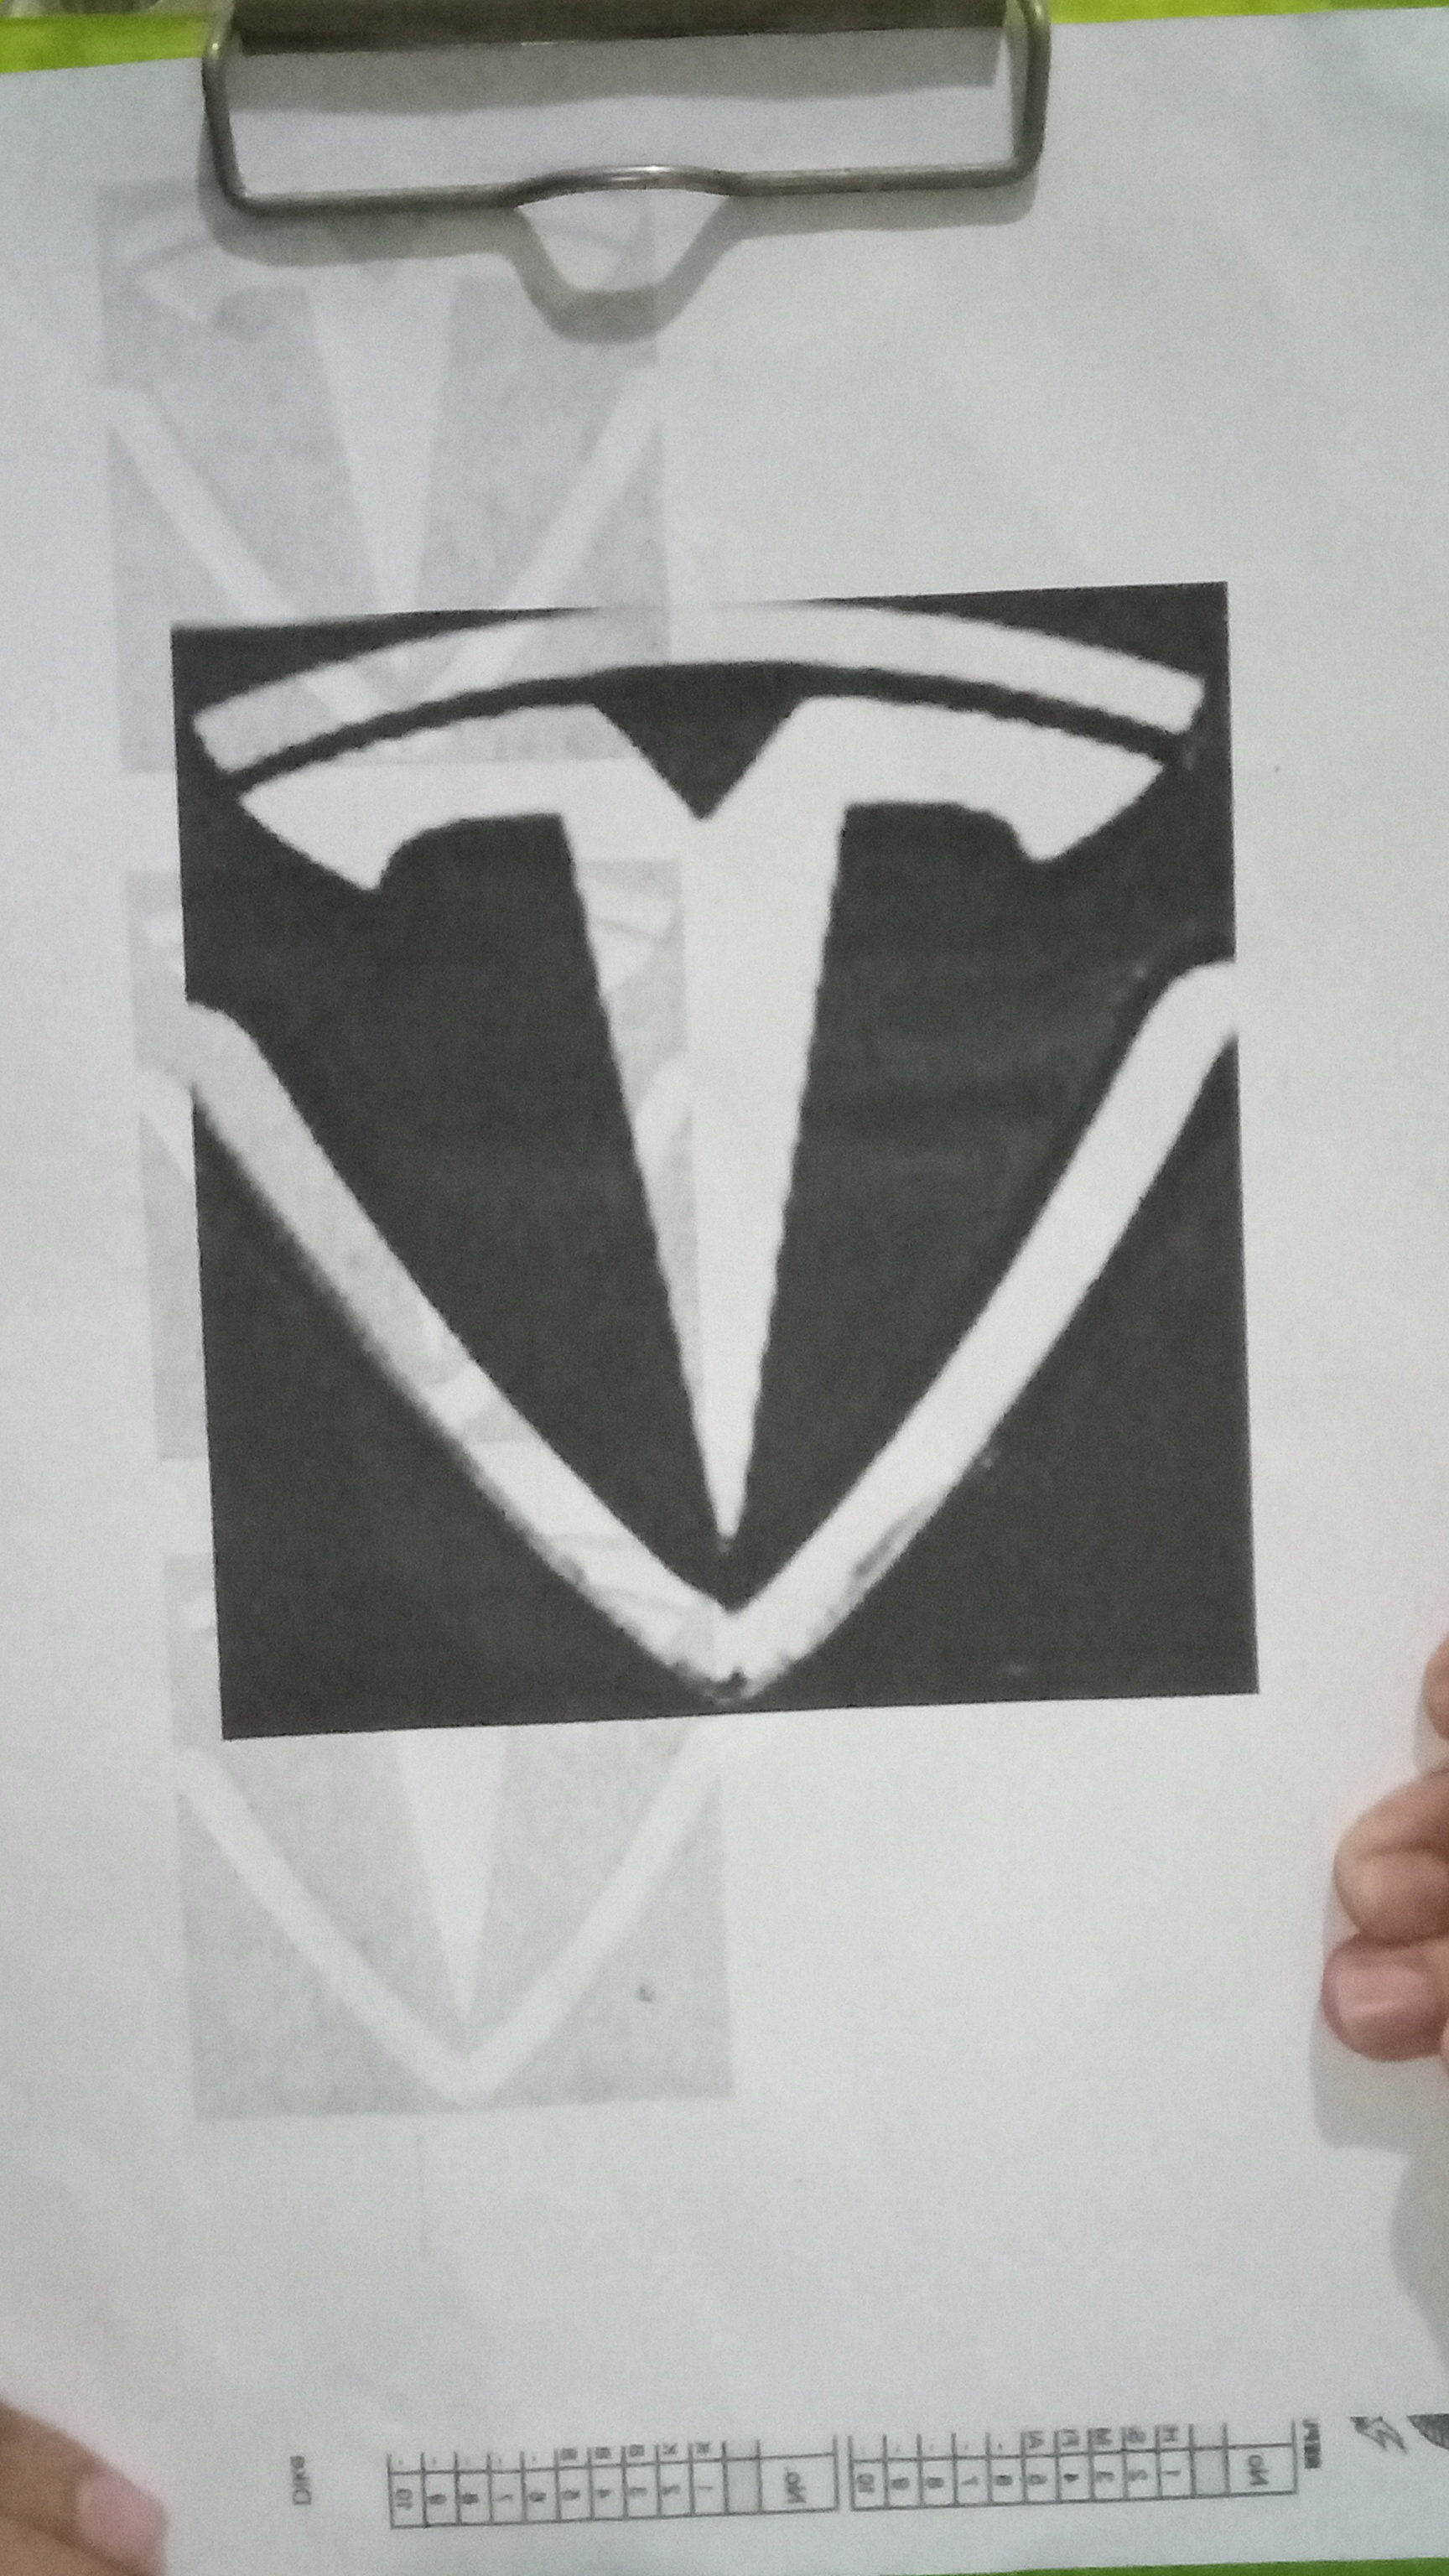Tesla: (149, 594, 1254, 1711)
